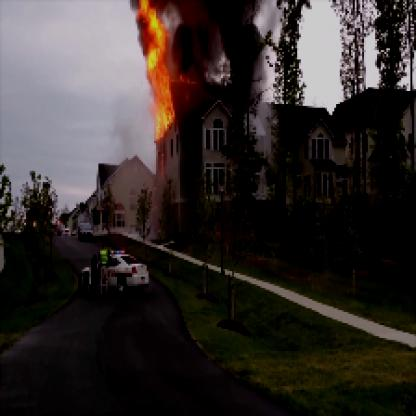Fire: (139, 2, 186, 139)
Smoke: (172, 2, 264, 100)
